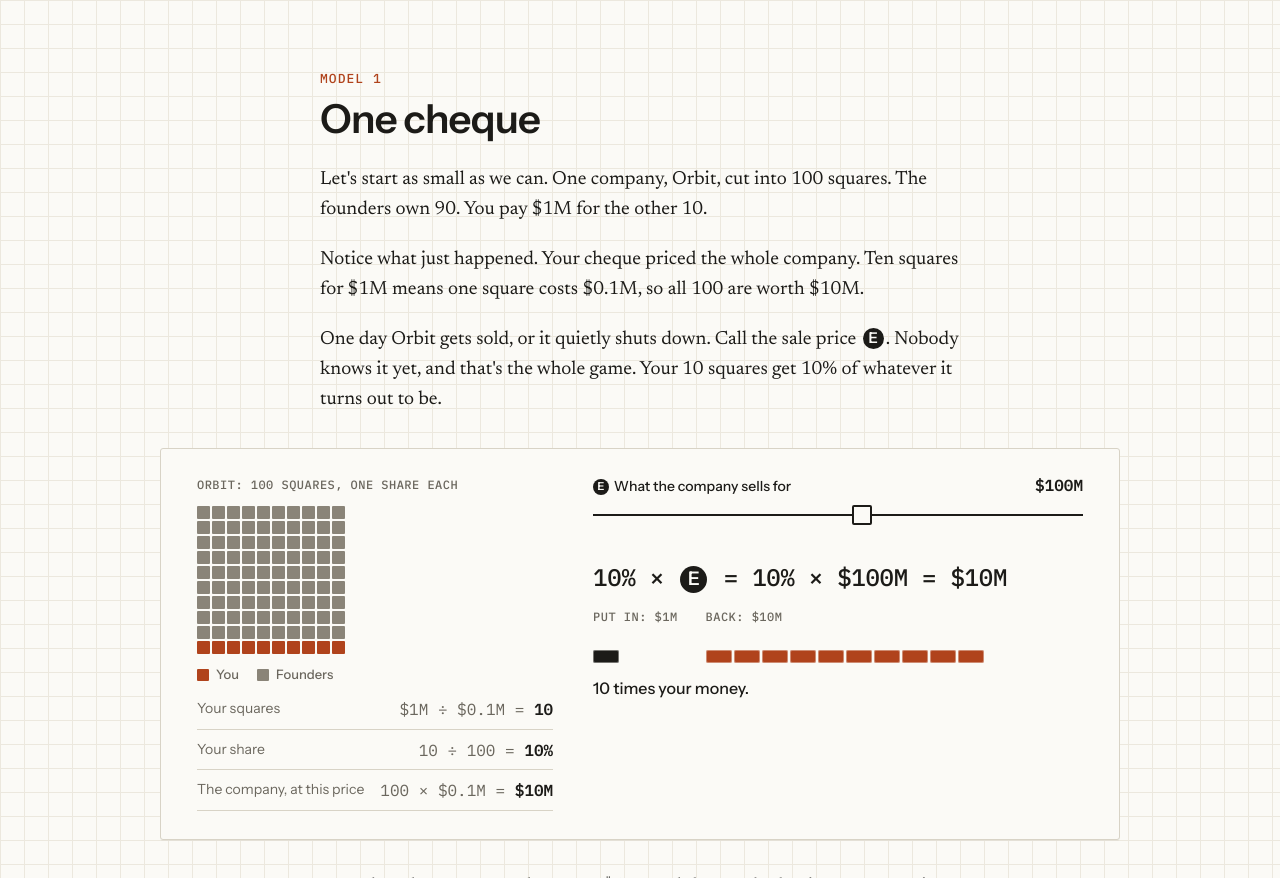
Test case: Model 1: one cheque › returns ten per cent of the sale, in blocks
This screenshot has width=1280, height=878.
expect the text with test id "m1-back" reads "$10M": met, box [752,609,782,624]
Set the slider labelled "E What the company sells for" to "17". click: (1004, 515)
box: [593,501,1083,529]
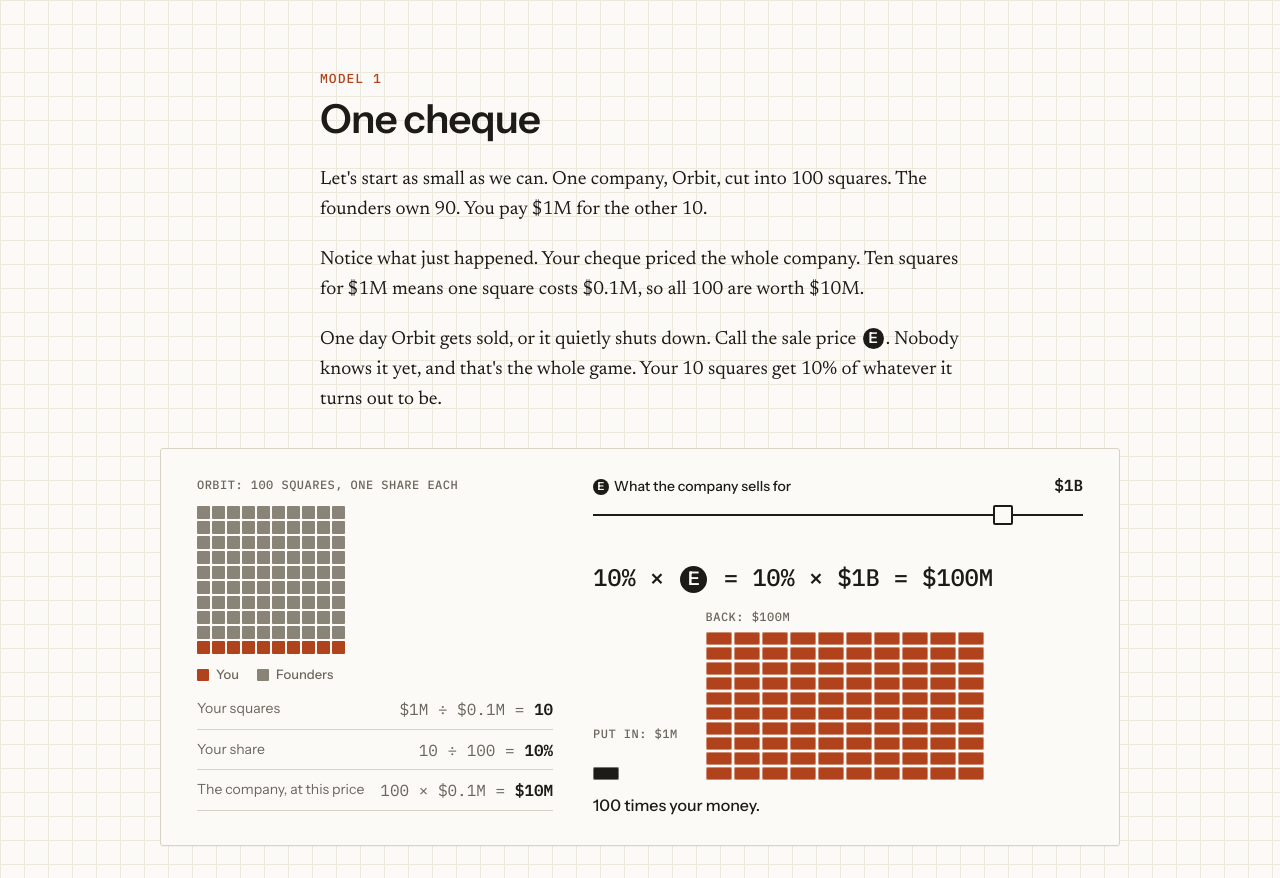
expect the text with test id "m1-back" reads "$100M": met, box [752,609,790,624]
Set the slider labelled "E What the company sells for" to "0". click: (601, 515)
box: [593,501,1083,529]
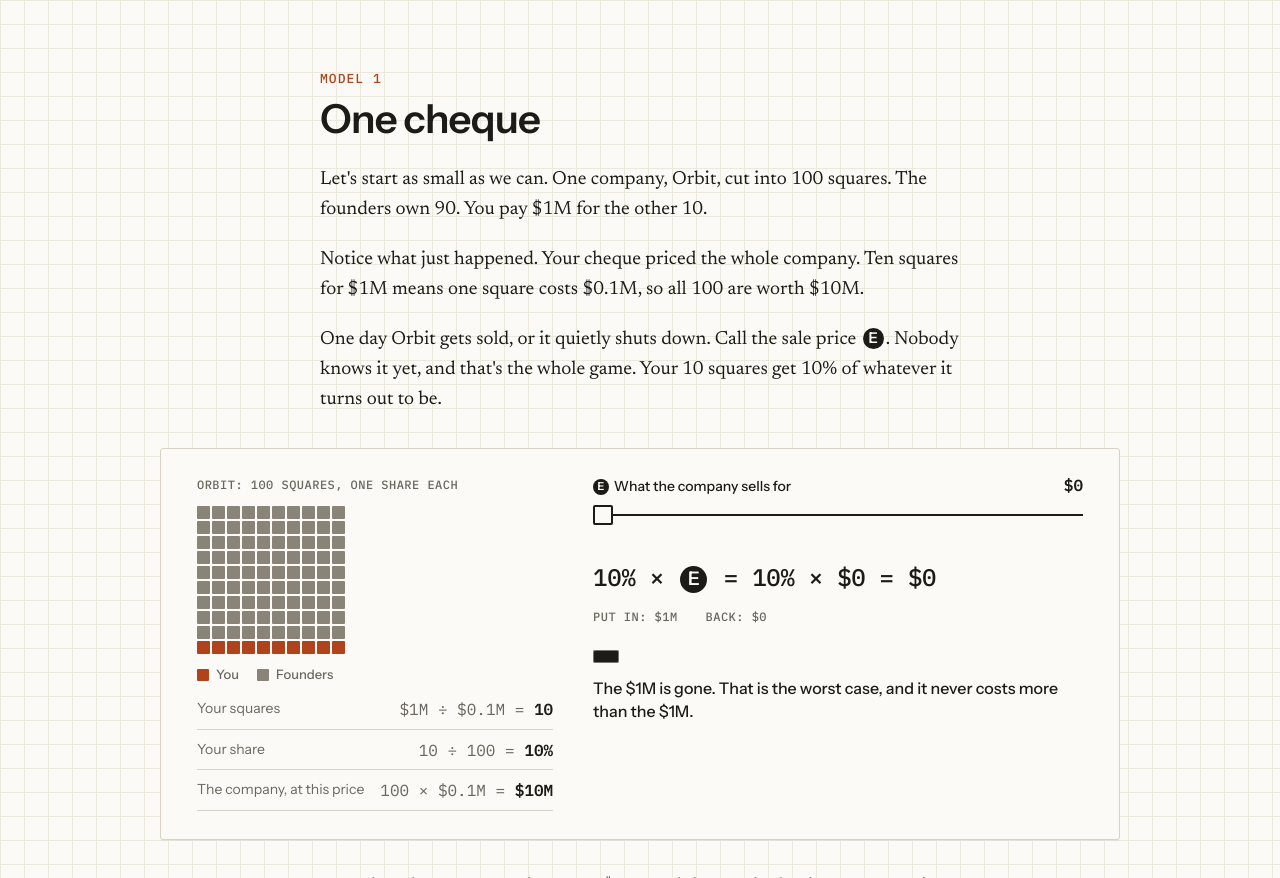
expect the text with test id "m1-back" reads "$0": met, box [752,609,767,624]
